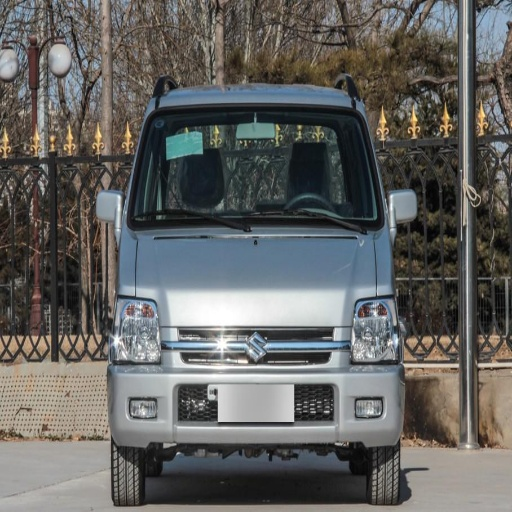front_bumper: (107, 326, 400, 446)
front_right_light: (109, 295, 161, 365)
hood: (118, 220, 377, 326)
